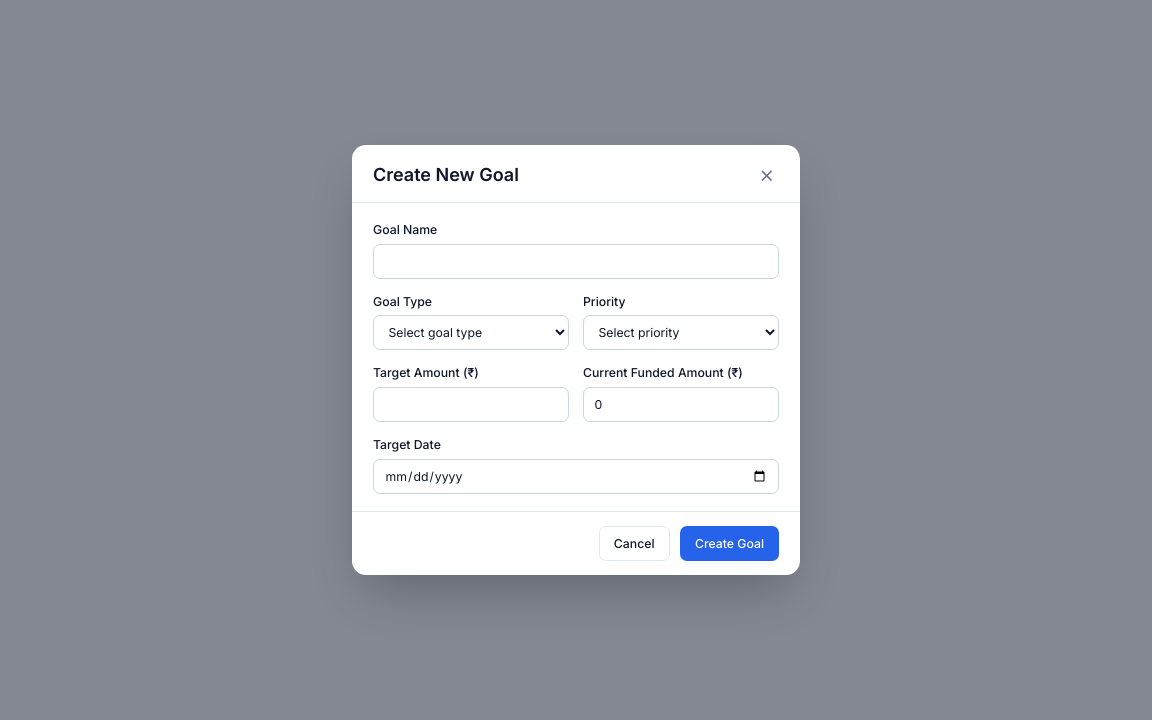
Test: GoalFormModal — Create mode › shows validation error for negative current_funded_amount
The image size is (1152, 720).
Replace the text in the number field labelled "Current Funded Amount (₹)" with "-50": [681, 404] box [583,387,779,422]
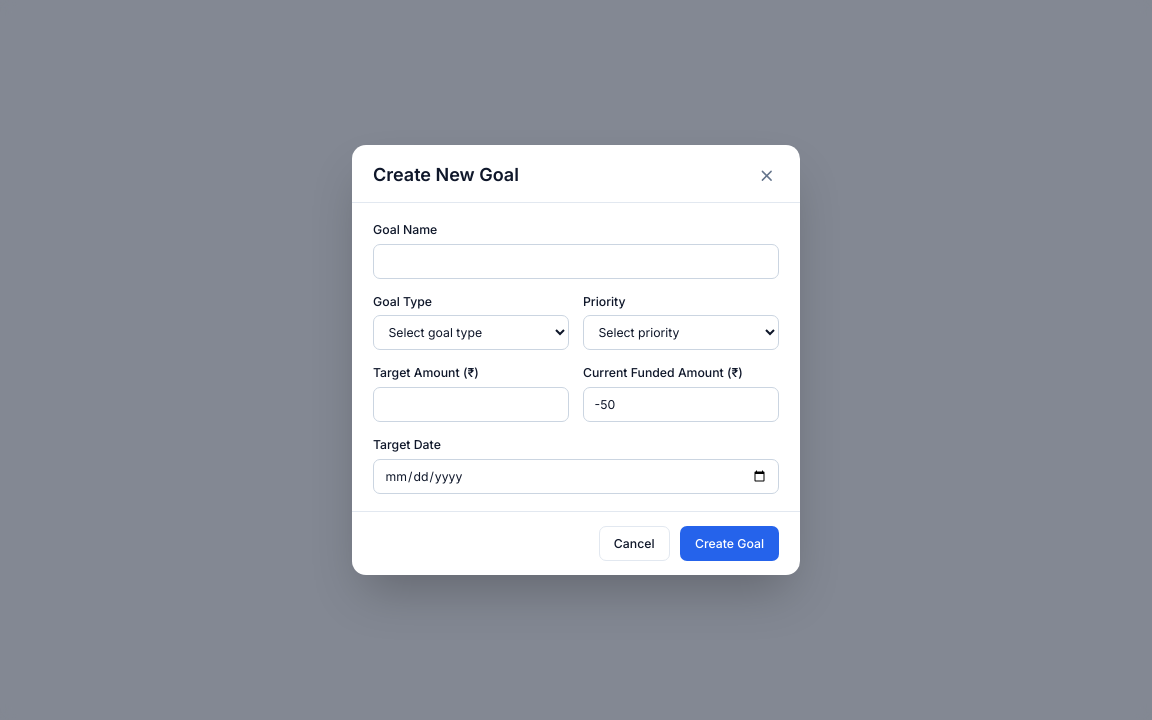
Click the button "Create Goal": [730, 544] box [680,526,779,561]
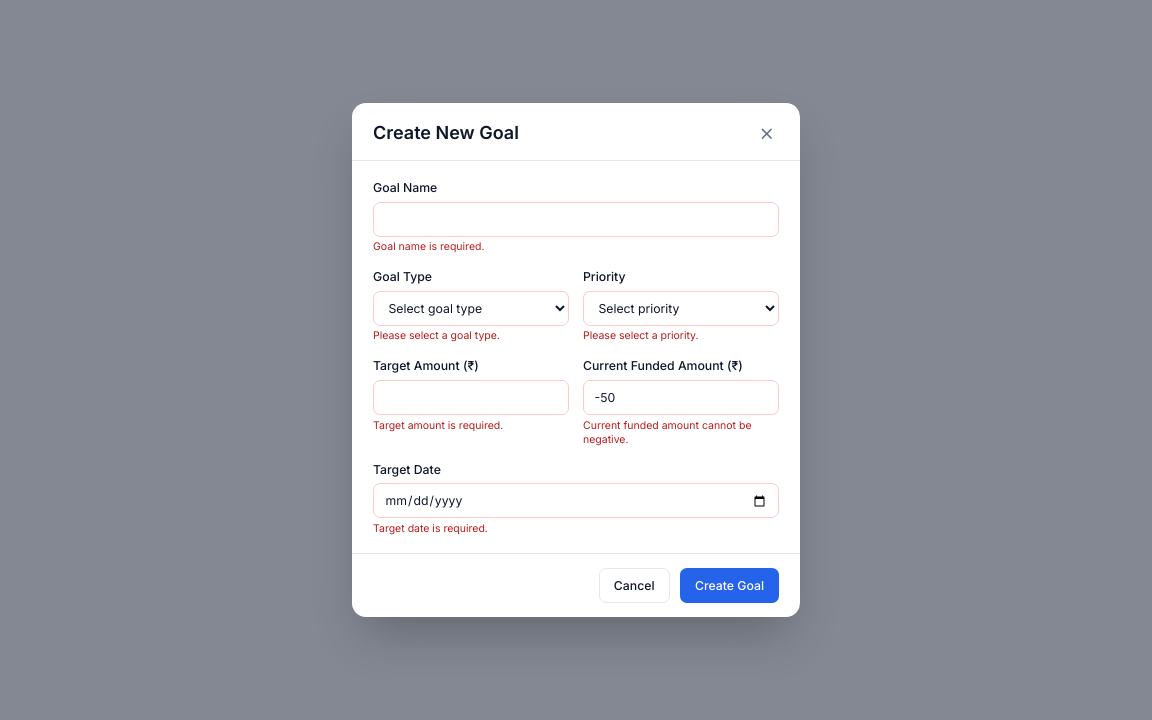
expect the text "Current funded amount cannot be negative." is shown: met, box [583,418,779,446]
